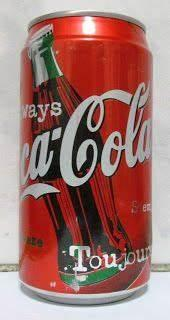metal: (20, 11, 153, 305)
